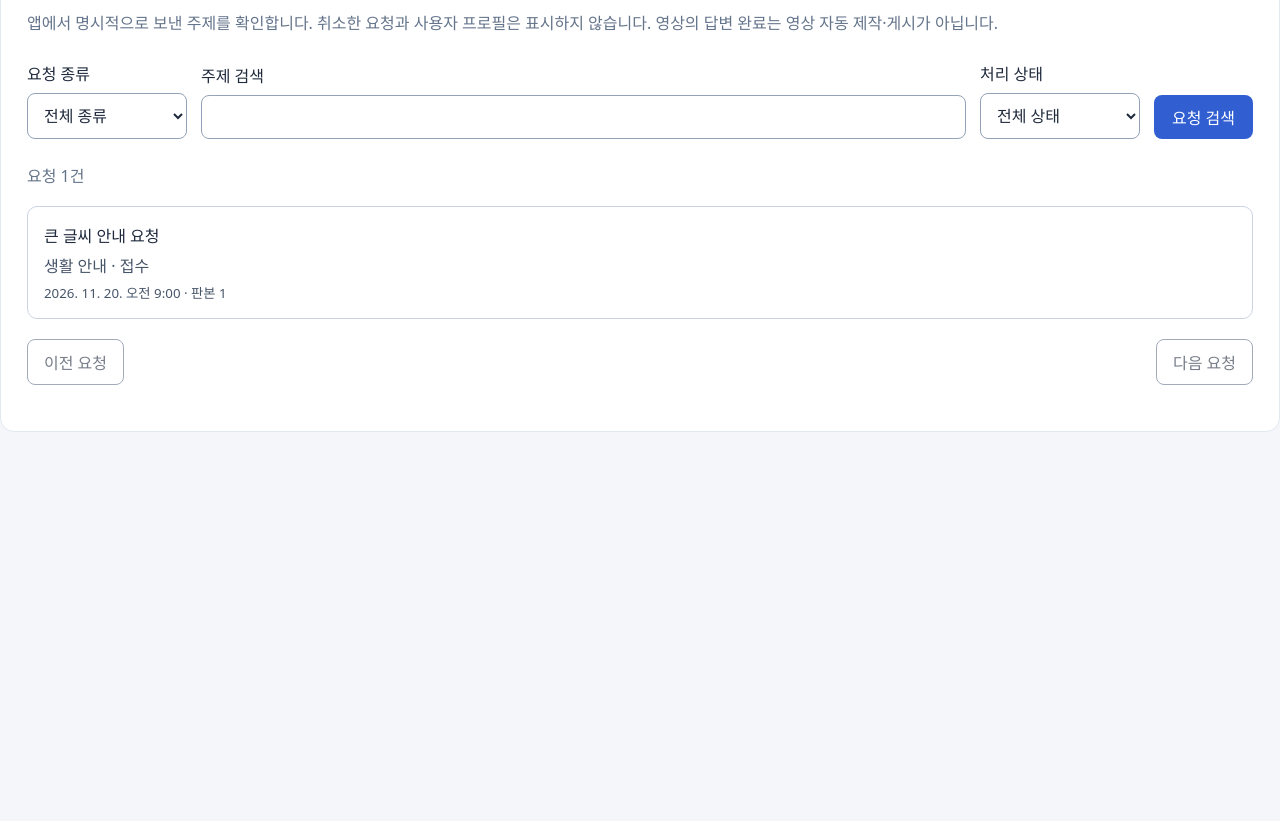
Test: 접수 주제·상태·처리 이력을 읽고 검토 중으로 저장한다
The width and height of the screenshot is (1280, 821).
Click the button "큰 글씨 안내 요청". click: (102, 236)
box: [27,206,1253,319]
(page scrolled)
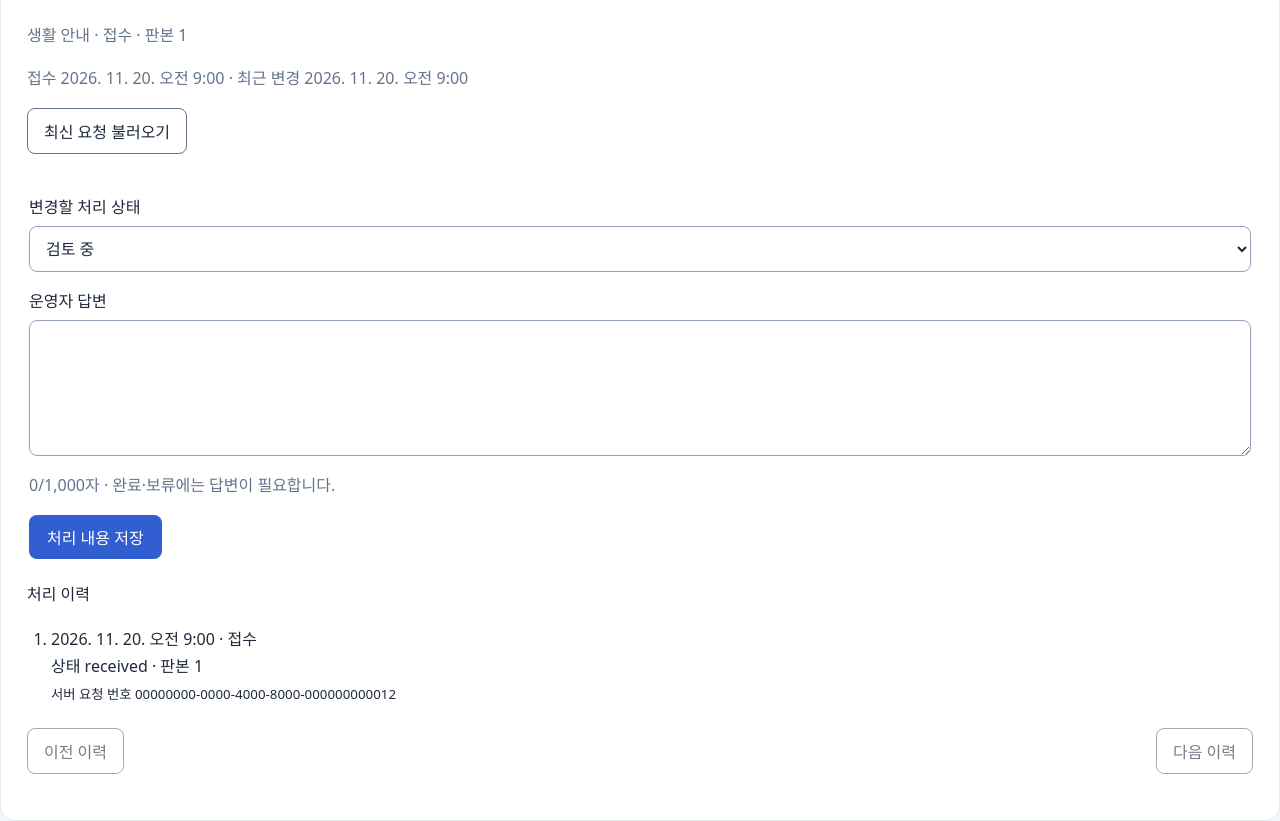
Check: the text box labelled "운영자 답변" is shown, box [29,320,1251,456]
Check: the text "서버 요청 번호 00000000-0000-4000-8000-000000000012" is shown, box [51,685,396,703]
Click the button "처리 내용 저장". click: (95, 538)
box: [29,516,162,560]
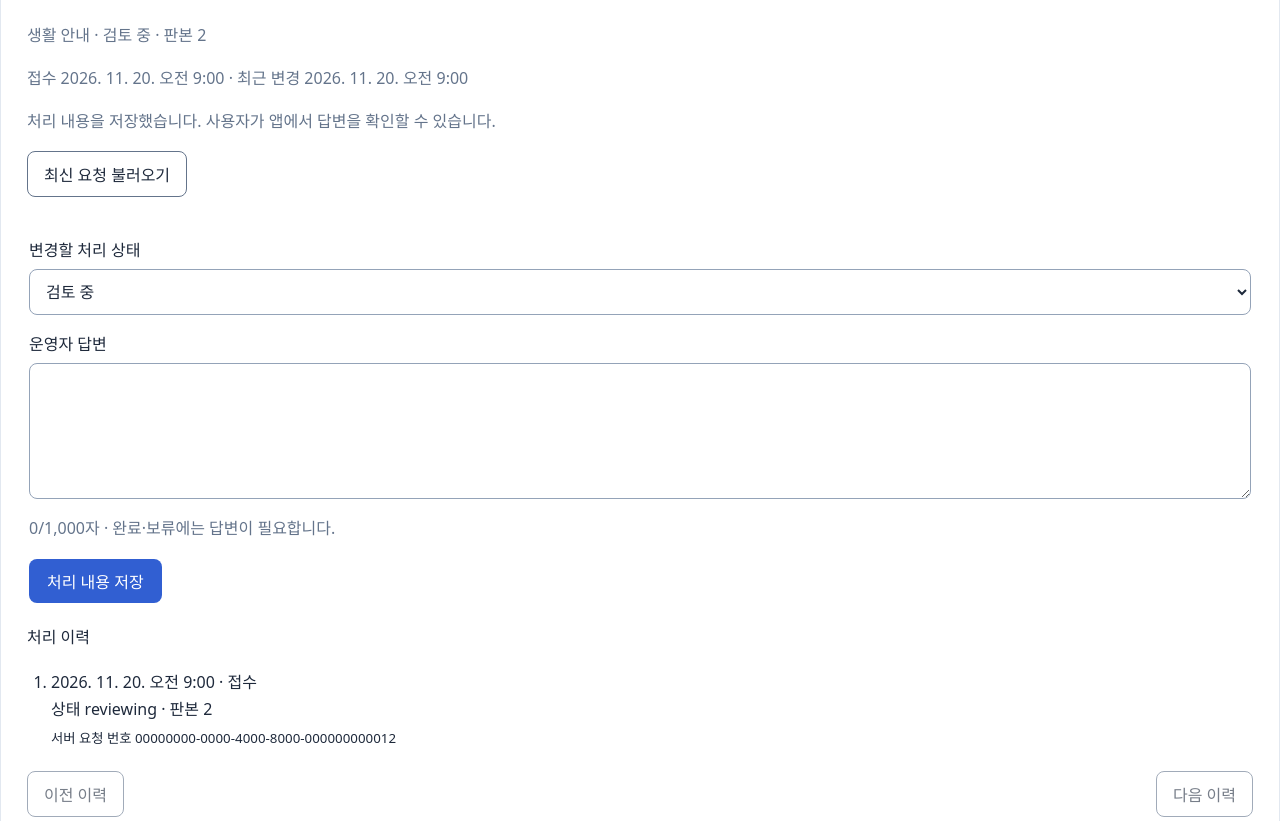
Check: the text "처리 내용을 저장했습니다. 사용자가 앱에서 답변을 확인할 수 있습니다." is shown, box [27,110,496,132]
